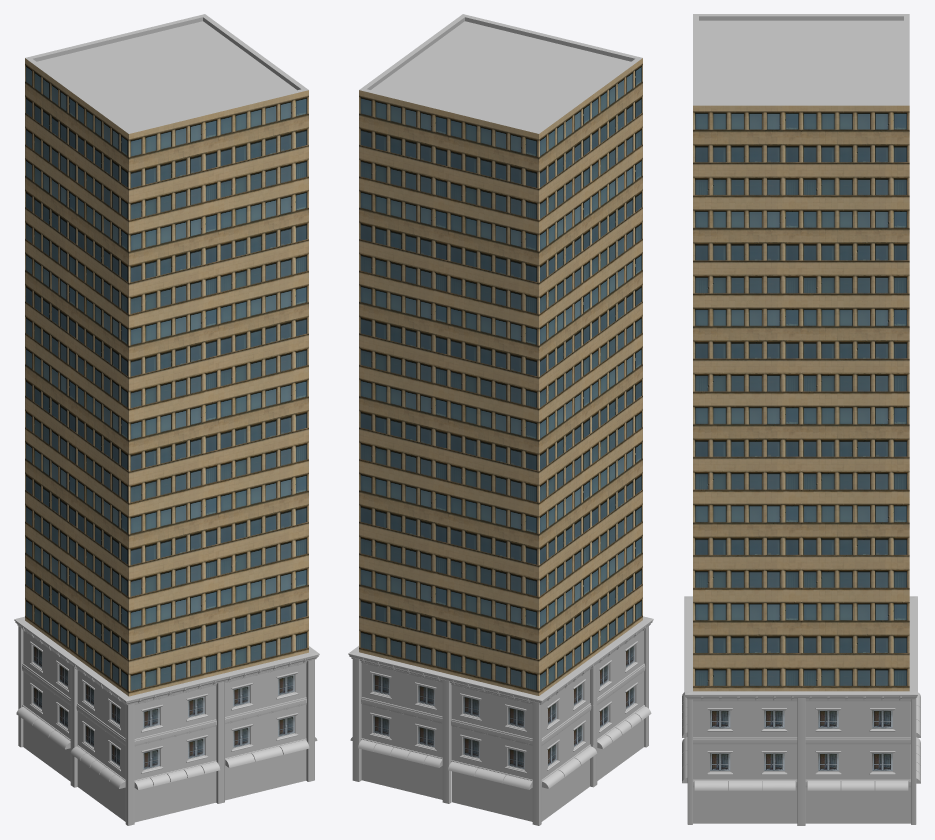
Rendered from High RIse Building 26.fbx.
3 renders of one model, left to right at view 1: azimuth 30°, elevation 25°; view 2: azimuth 150°, elevation 25°; view 3: azimuth 270°, elevation 25°, orthographic. The views are drawn at different scales.
Parts seen in each view (by area): view 1: Top, Base, Part_5, Part_3, Part_2, Part_4, Part_1; view 2: Top, Base, Part_3, Part_2, Part_4, Part_5, Part_1; view 3: Top, Base, Part_2, Part_4, Part_5, Part_3, Part_1.
Part boxes in pixels (x1=…): Top: x1=25, y1=14, x2=308, y2=228; Base: x1=14, y1=616, x2=319, y2=825; Part_5: x1=25, y1=152, x2=308, y2=322; Part_3: x1=25, y1=341, x2=308, y2=510; Part_2: x1=25, y1=435, x2=308, y2=605; Part_4: x1=25, y1=247, x2=308, y2=416; Part_1: x1=25, y1=529, x2=308, y2=696; Top: x1=359, y1=14, x2=642, y2=227; Base: x1=348, y1=616, x2=653, y2=825; Part_3: x1=359, y1=341, x2=642, y2=510; Part_2: x1=359, y1=435, x2=642, y2=604; Part_4: x1=359, y1=246, x2=642, y2=416; Part_5: x1=359, y1=152, x2=642, y2=322; Part_1: x1=359, y1=529, x2=642, y2=695; Top: x1=693, y1=14, x2=909, y2=203; Base: x1=682, y1=596, x2=920, y2=825; Part_2: x1=693, y1=498, x2=909, y2=596; Part_4: x1=693, y1=301, x2=909, y2=399; Part_5: x1=693, y1=203, x2=909, y2=301; Part_3: x1=693, y1=400, x2=909, y2=497; Part_1: x1=693, y1=596, x2=909, y2=691.
Size of the model in its own units: 1763 by 5850 by 1764.
